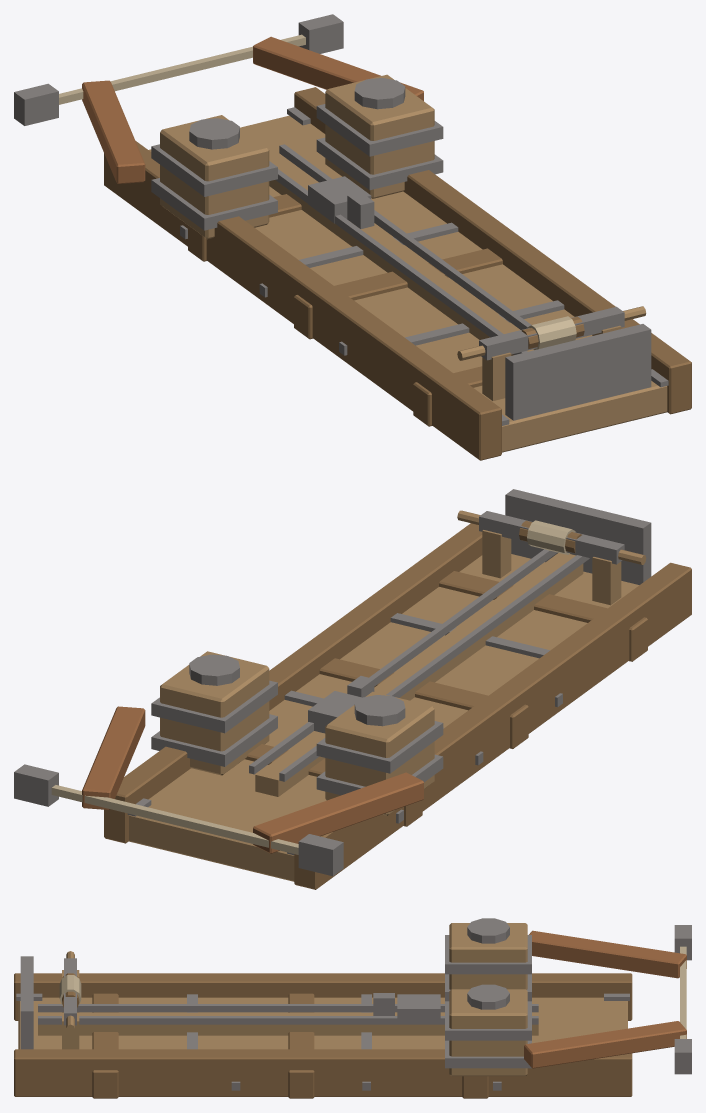
The model's file is Ballista.fbx.
3 renders of one model, top to bottom at view 1: azimuth 30°, elevation 25°; view 2: azimuth 150°, elevation 25°; view 3: azimuth 270°, elevation 25°, orthographic. The views are drawn at different scales.
Visible parts, largest first — view 1: Ballista; view 2: Ballista; view 3: Ballista.
Part boxes in pixels (x1,y1,x2,y2): Ballista: [14, 14, 691, 460]; Ballista: [14, 489, 691, 889]; Ballista: [14, 918, 691, 1098].
Bounding box in the file's own units: 0.6949 × 0.24 × 1.56.
